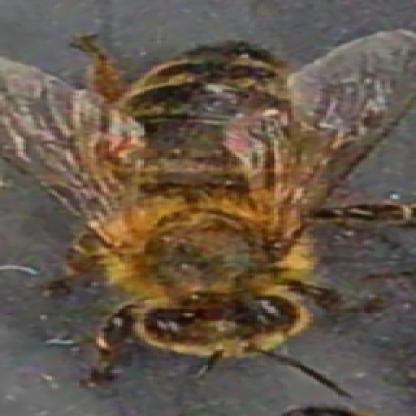bee: (77, 32, 326, 364)
